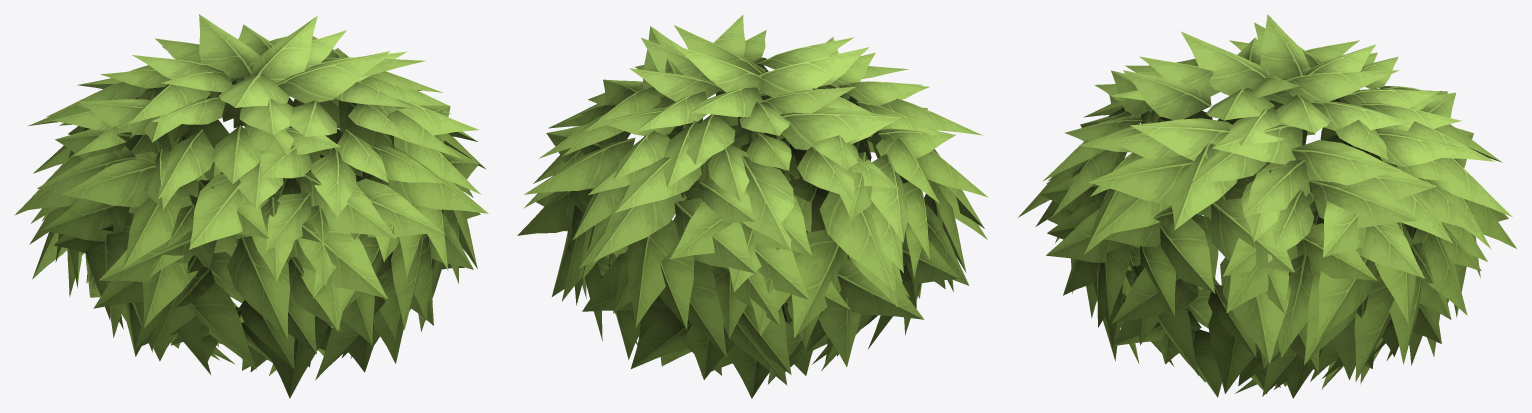
3 views of the same model, side by side, from view 1: azimuth 30°, elevation 25°; view 2: azimuth 150°, elevation 25°; view 3: azimuth 270°, elevation 25° (orthographic). The views are drawn at different scales.
Parts seen in each view (by area): view 1: grid_9_leaves_LOD0; view 2: grid_9_leaves_LOD0; view 3: grid_9_leaves_LOD0.
Part boxes in pixels (left/top/right/bottom): grid_9_leaves_LOD0: left=14, top=14, right=488, bottom=398; grid_9_leaves_LOD0: left=517, top=14, right=988, bottom=398; grid_9_leaves_LOD0: left=1018, top=14, right=1516, bottom=398.
Size of what is drawn, in the model's own units: 1.35 by 0.9976 by 1.4.
Materials: 1 (1 with a texture image).
